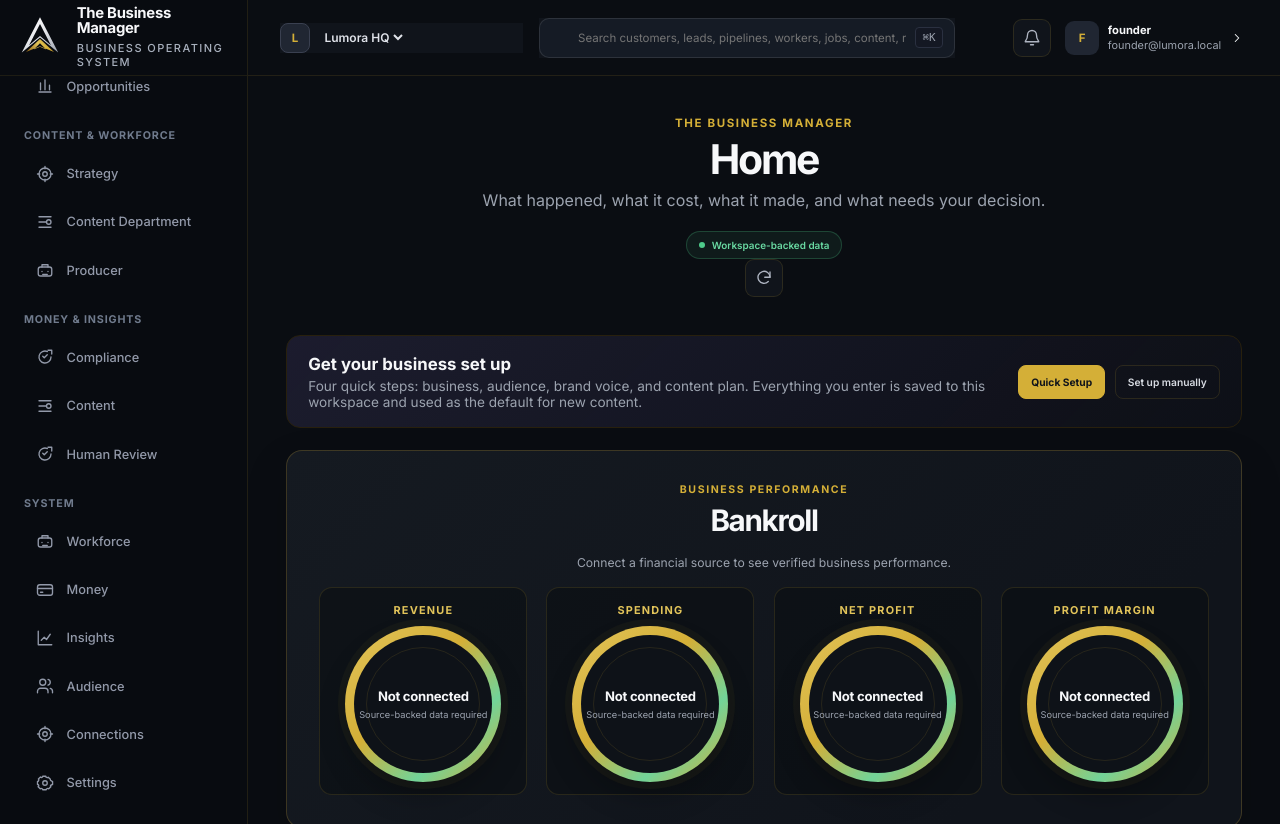
dashboard navigation smoke test › loads every Connections view tab safely
This screenshot has width=1280, height=824.
(page scrolled)
Expected: the heading "Home" is shown, [710,134,818,184]
Click the button "Connections".
click(135, 734)  # box [24,714,245,754]
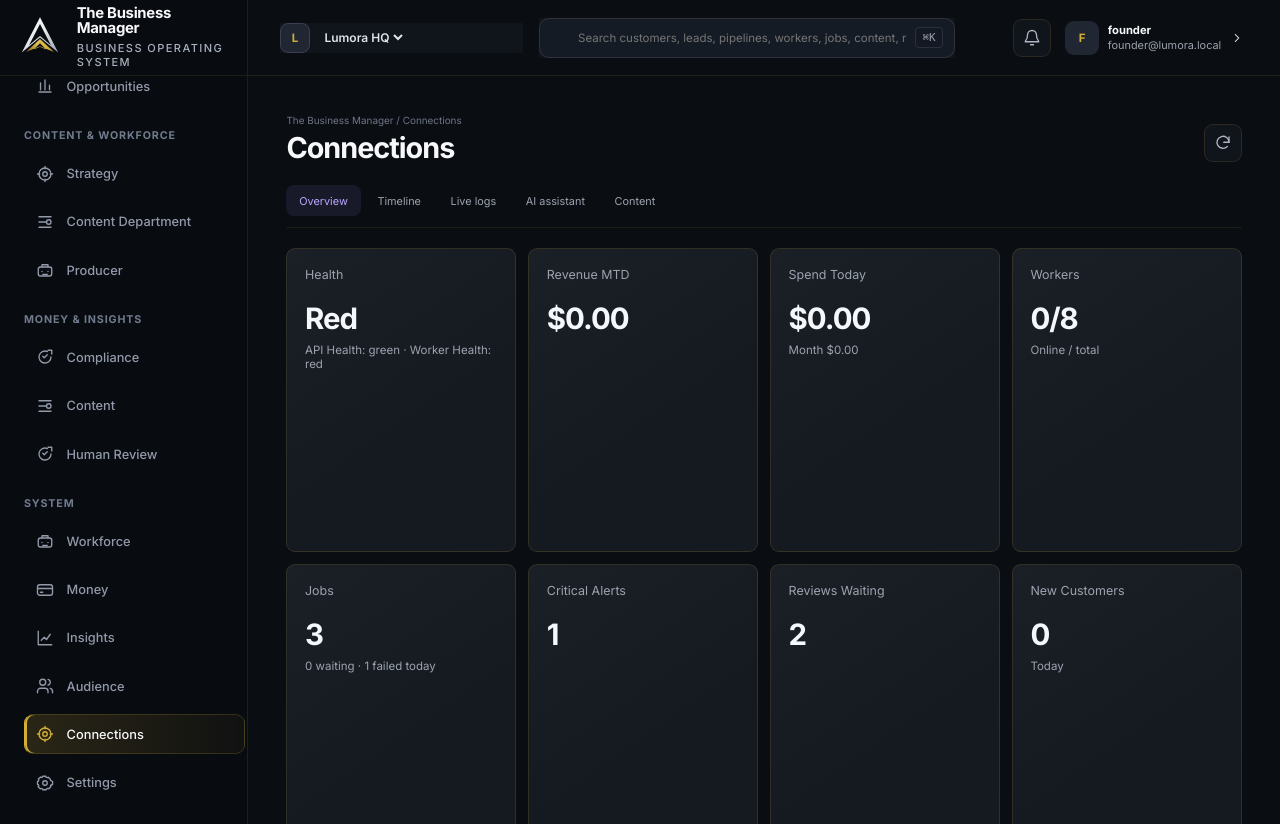
Click the tab "Timeline".
click(399, 201)  # box [365,185,434,216]
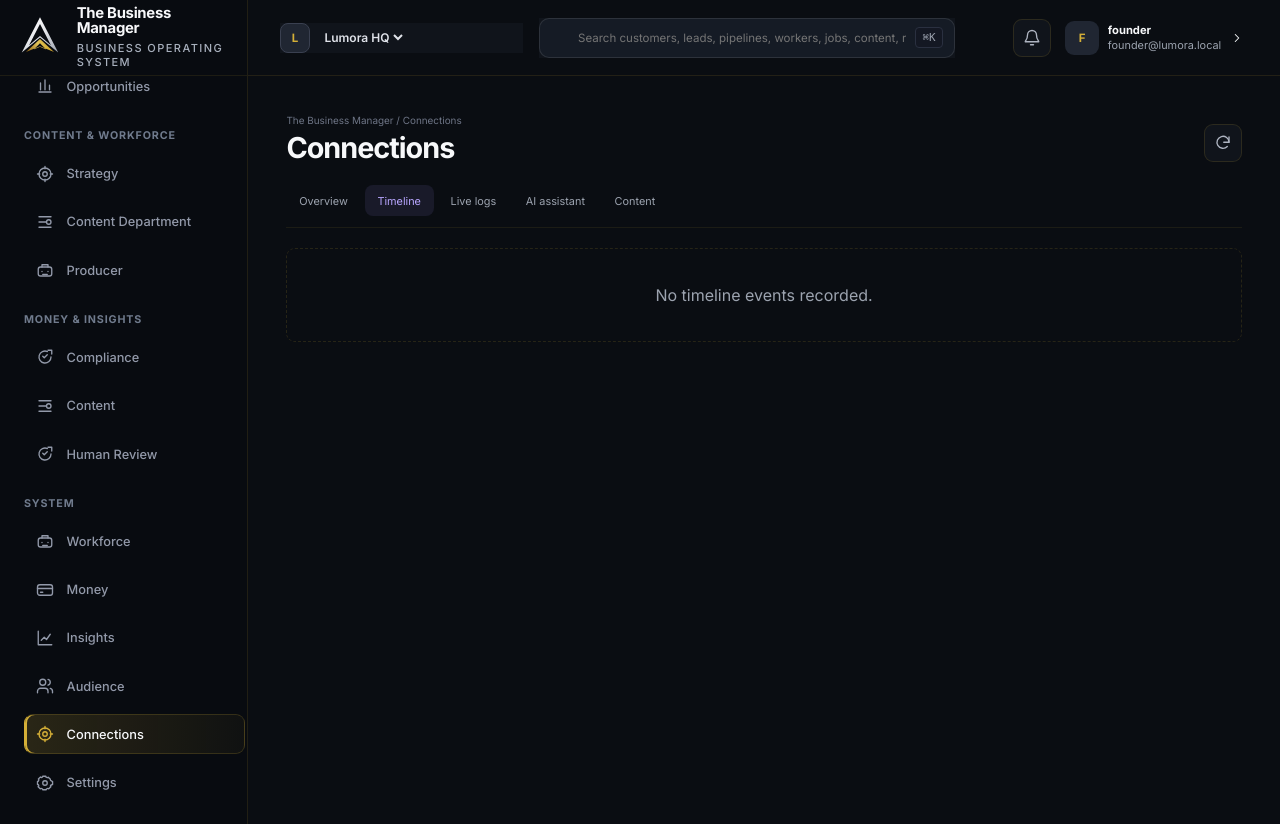
Expected: the text "No timeline events recorded." is shown, [286,248,1242,342]
Click the tab "Live logs".
click(473, 201)  # box [438,185,509,216]
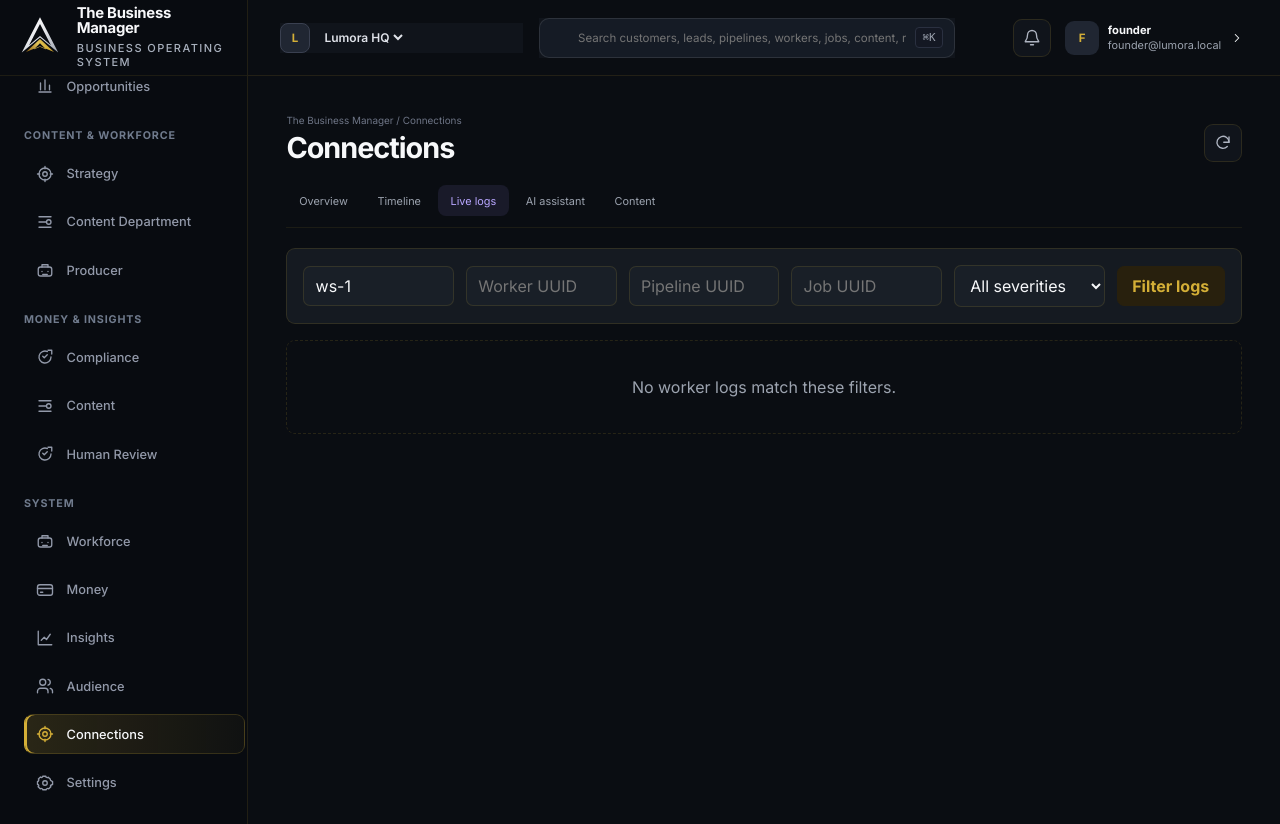
Expected: the text "No worker logs match these filters." is shown, [286,340,1242,434]
Click the tab "AI assistant".
click(555, 201)  # box [513,185,598,216]
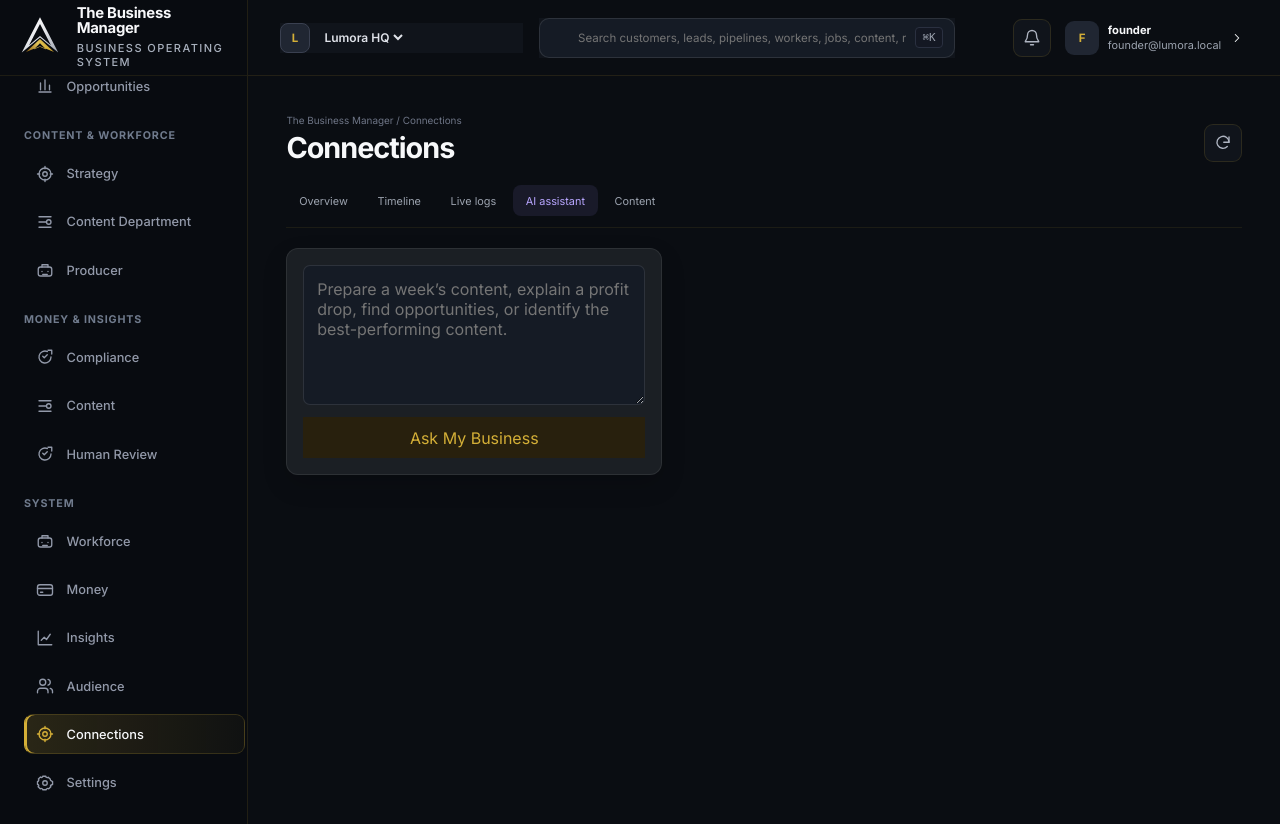
Expected: the button "Ask My Business" is shown, [303,417,645,458]
Click the tab "Content".
click(635, 201)  # box [602,185,668,216]
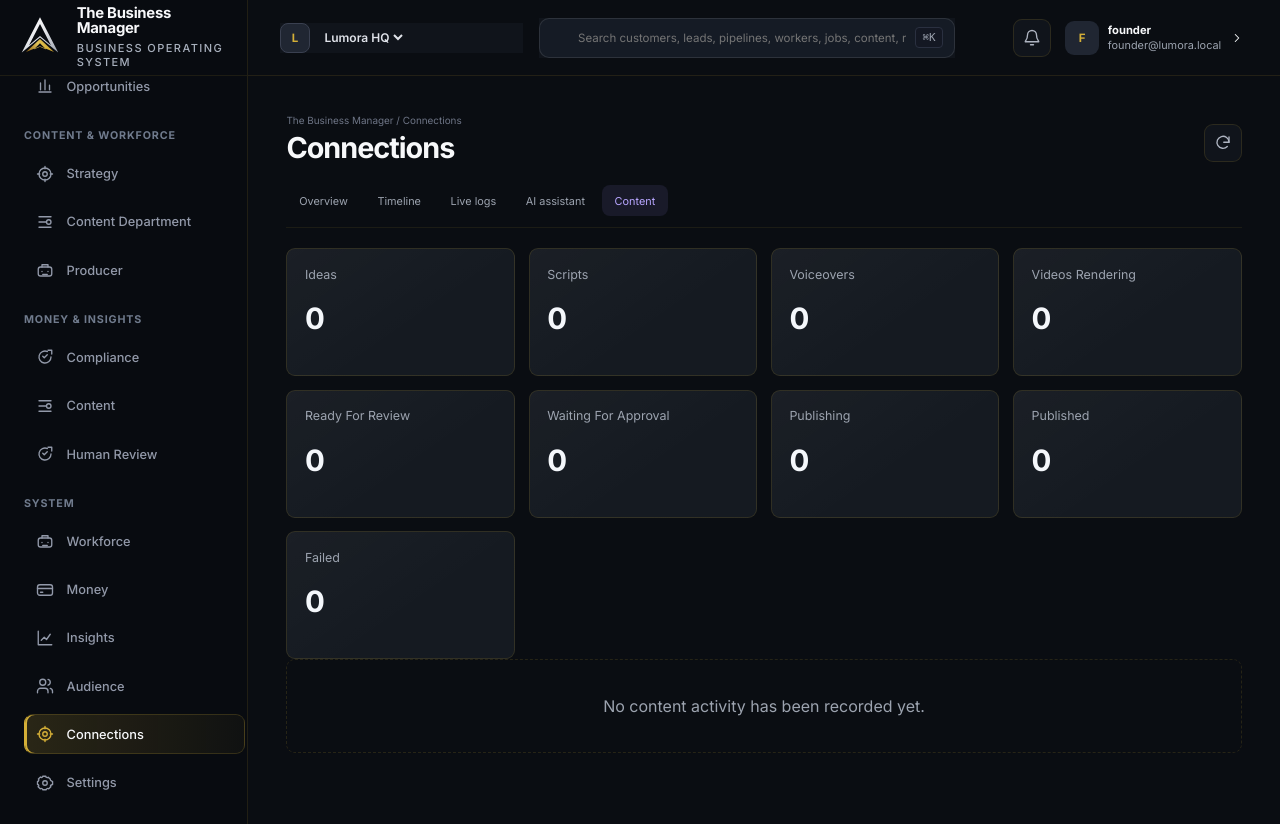
Expected: the text "No content activity has been recorded yet." is shown, [286,659,1242,753]
Click the tab "Overview".
click(324, 201)  # box [286,185,361,216]
(page scrolled)
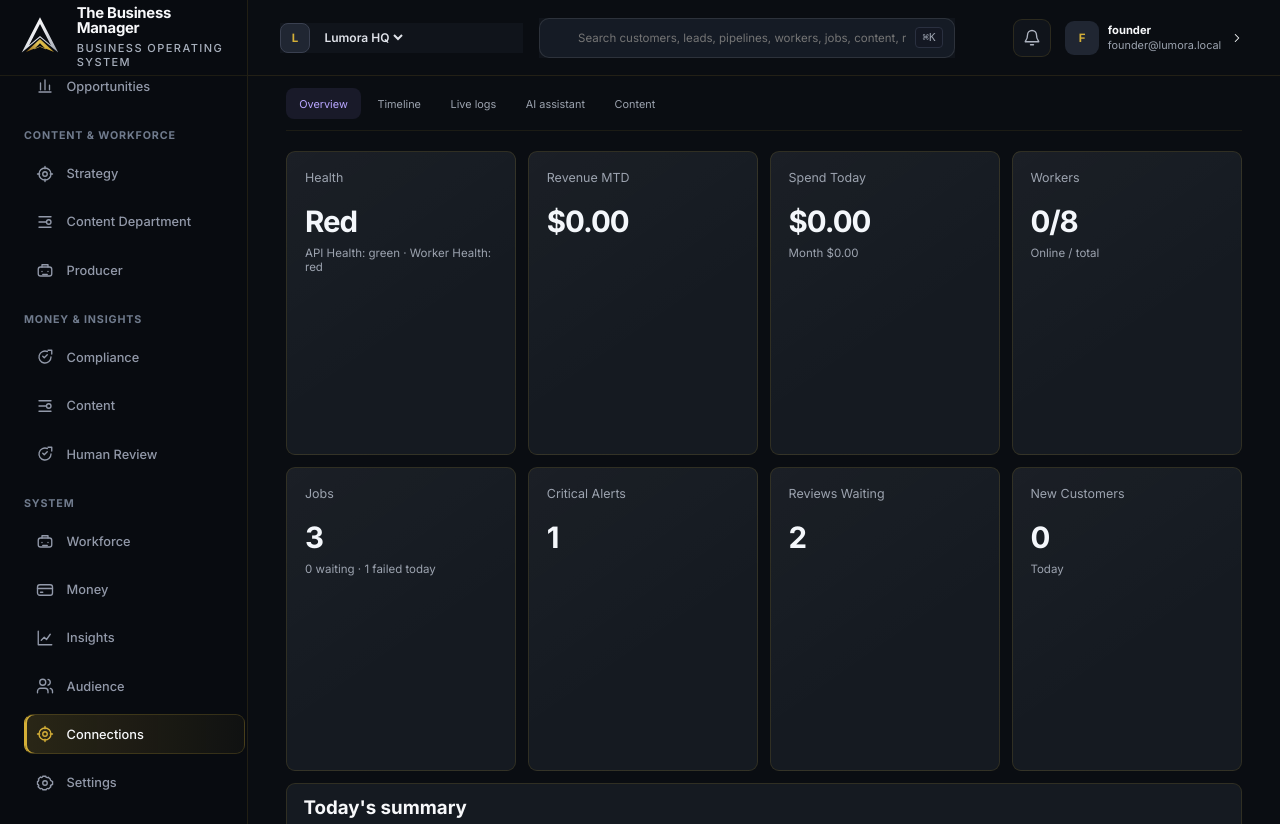
Expected: the heading "Today's summary" is shown, [303,796,467,819]
